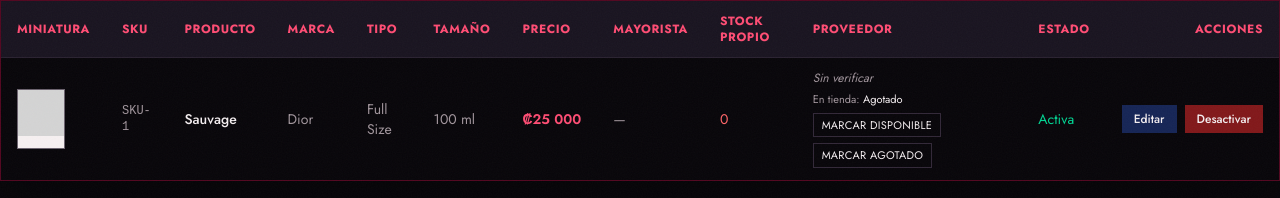
Test: ProductListAdmin › supplier availability › changing it › disables the row's controls while the request is in flight, then re-enables them
Click the button with aria-label "como disponible": coordinates (877, 125) [813,113,941,137]
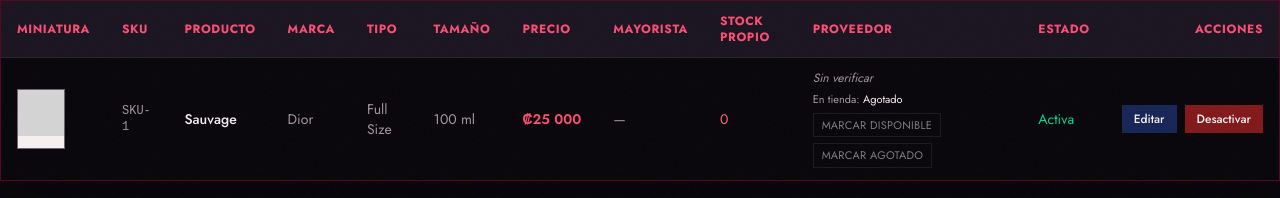
expect the button with aria-label "como disponible" is disabled: met
expect the button with aria-label "como agotado" is disabled: met, box [813,143,932,168]
Note: A second click while pending must not fire a second request.
Click the button with aria-label "como disponible": coordinates (877, 125) [813,113,941,137]
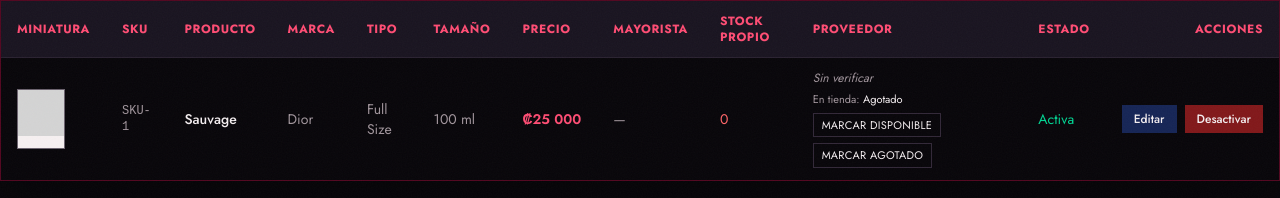
expect the button with aria-label "como disponible" is enabled: met, box [813,113,941,137]
